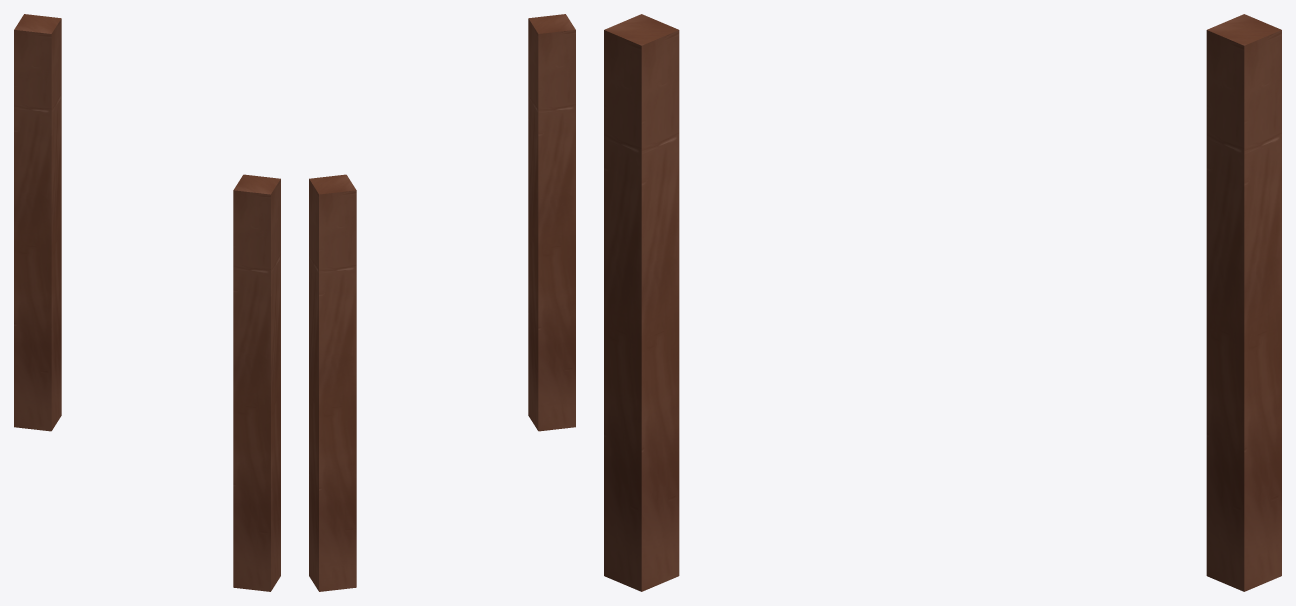
The model's file is posts.fbx.
3 views of the same model, side by side, from view 1: azimuth 30°, elevation 25°; view 2: azimuth 150°, elevation 25°; view 3: azimuth 270°, elevation 25° (orthographic). The views are drawn at different scales.
Parts seen in each view (by area): view 1: wall_sidesThin; view 2: wall_sidesThin; view 3: wall_sidesThin.
Boxes of the visible parts, x1,y1,x2,y2 form: wall_sidesThin: (14, 14, 280, 591); wall_sidesThin: (309, 14, 575, 591); wall_sidesThin: (604, 14, 1281, 591).
Size of the model in its own units: 1.25 by 10 by 11.25.
1 material, 1 textured.
